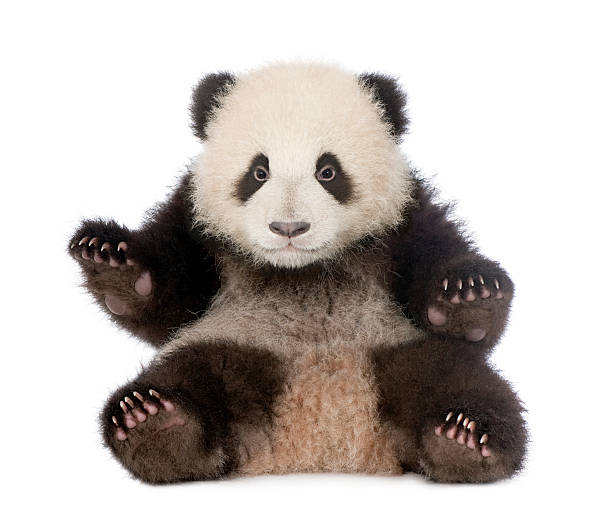panda: (157, 53, 459, 314)
